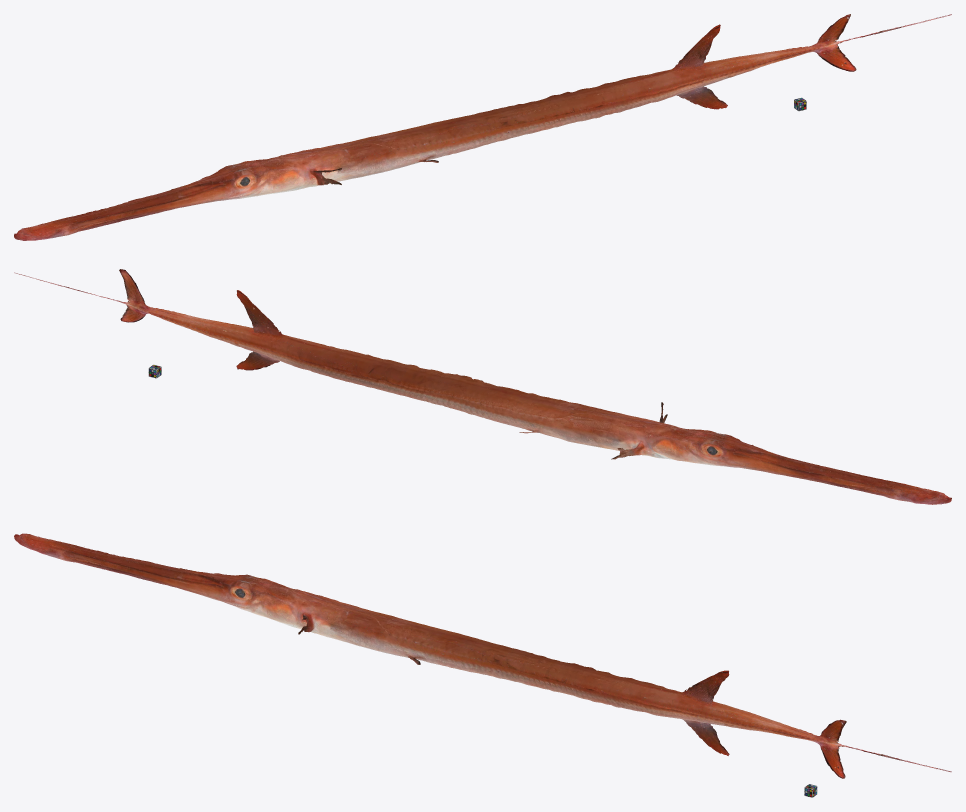
File: scan_cornet_red.glb
3 renders of one model, top to bottom at view 1: azimuth 30°, elevation 25°; view 2: azimuth 150°, elevation 25°; view 3: azimuth 330°, elevation 25°, orthographic.
Visible parts, largest first — view 1: Object_6; view 2: Object_6; view 3: Object_6.
Boxes of the visible parts, x1,y1,x2,y2 form: Object_6: (14,14,904,240); Object_6: (60,269,951,504); Object_6: (14,533,903,778).
Bounding box in the file's own units: 27.58 × 2.94 × 2.36.
Materials: 3 (3 with a texture image).
